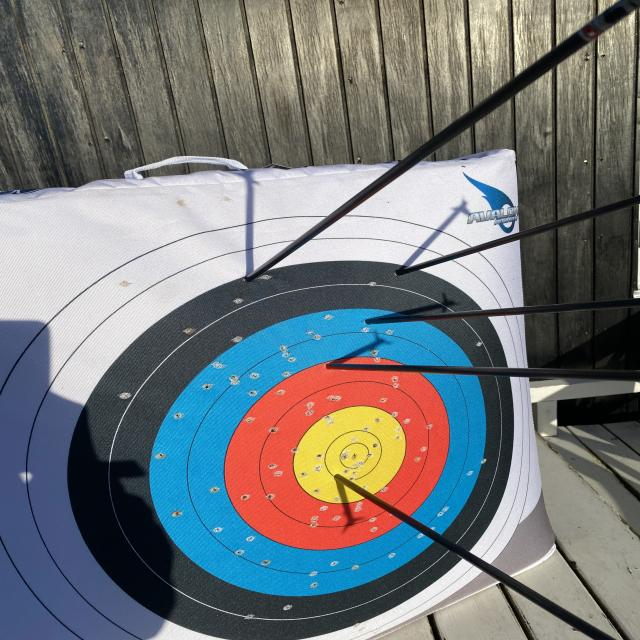Arrow_Black: (233, 270, 275, 298), (385, 261, 413, 291)
Arrow_Blue: (348, 305, 387, 335)
Arrow_Red: (313, 353, 345, 383)
Arrow_Yellow: (322, 459, 354, 493)
